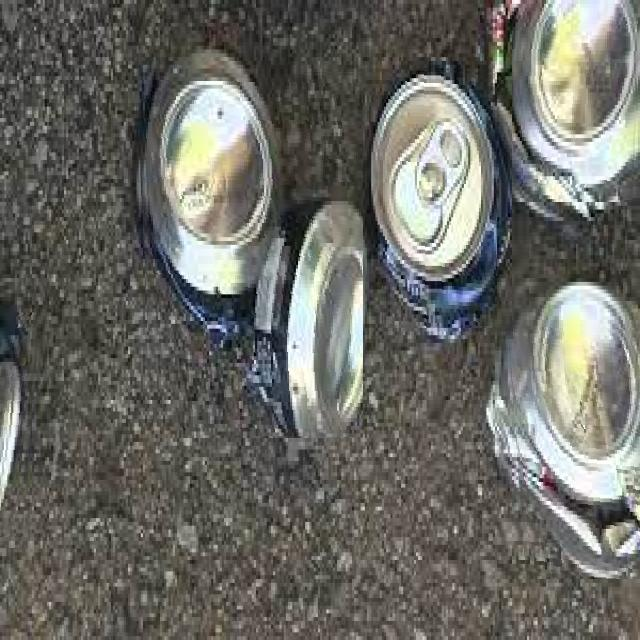Cans: (135, 70, 363, 438), (507, 320, 640, 579), (381, 66, 497, 328), (512, 8, 640, 202), (0, 308, 41, 548)
